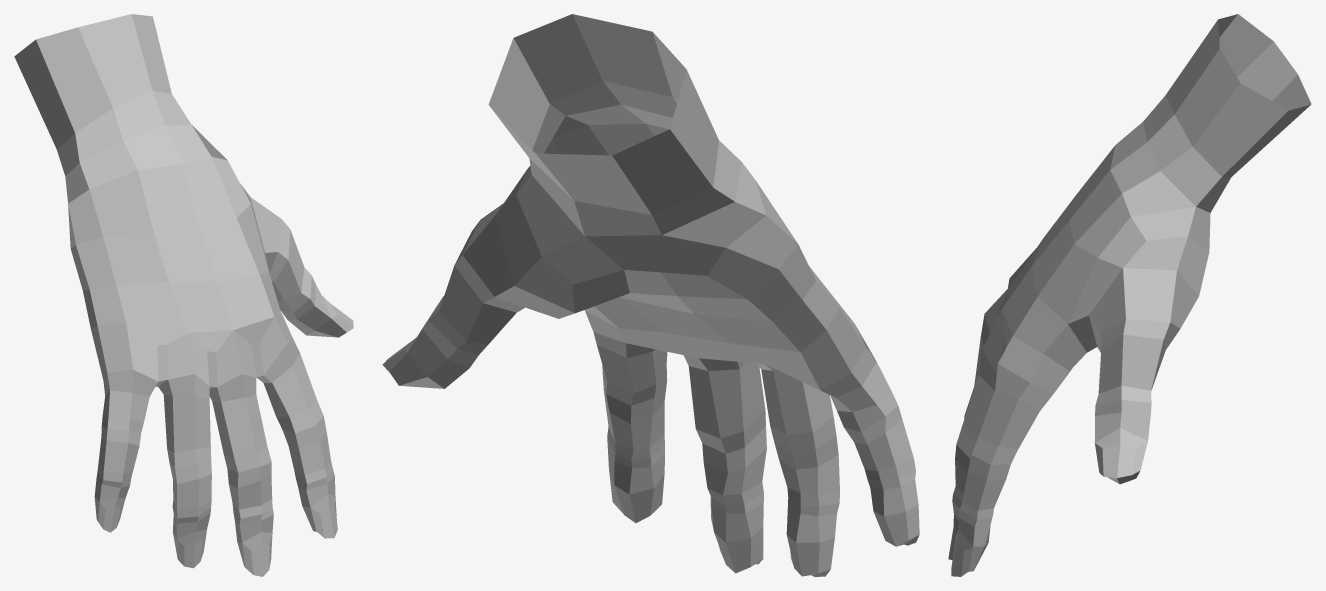
File: hand.fbx
The picture shows the model from 3 angles, left to right: view 1: azimuth 30°, elevation 25°; view 2: azimuth 150°, elevation 25°; view 3: azimuth 270°, elevation 25°; orthographic projection. The views are drawn at different scales.
Parts seen in each view (by area): view 1: node_id4; view 2: node_id4; view 3: node_id4.
Part boxes in pixels (bbox=[...]): node_id4: bbox=[14, 14, 353, 576]; node_id4: bbox=[382, 14, 919, 576]; node_id4: bbox=[948, 14, 1311, 576].
Bounding box in the file's own units: 0.3512 × 0.5113 × 0.3312.
1 material, 1 textured.
